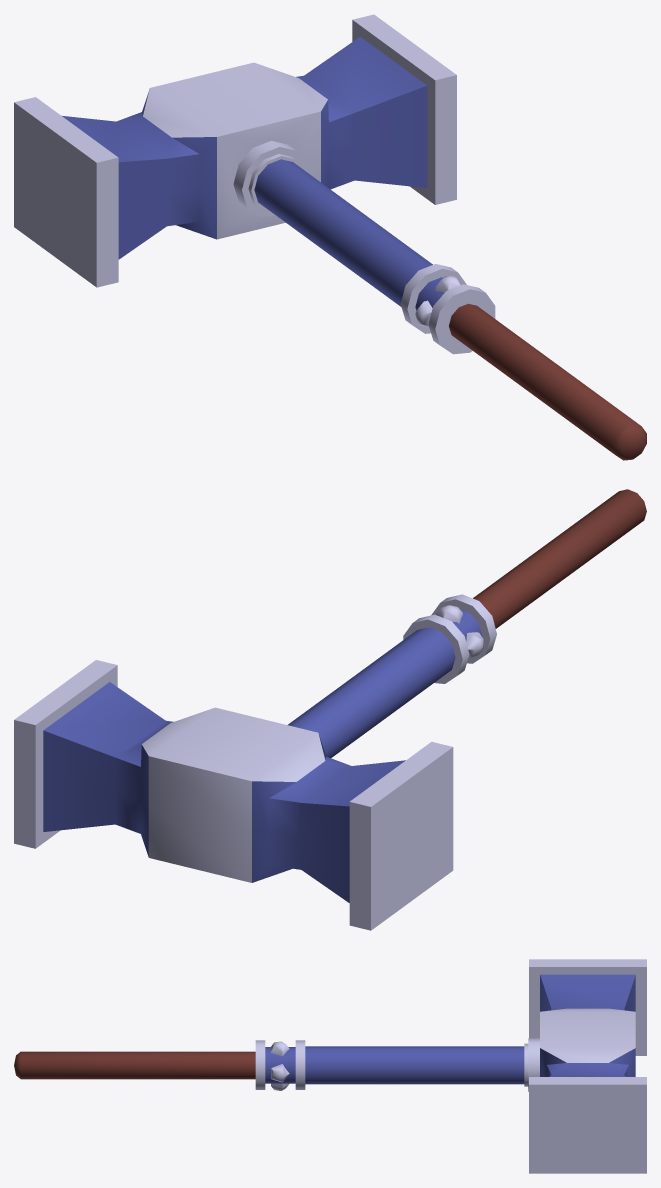
Rendered from Hammer.fbx.
3 renders of one model, top to bottom at view 1: azimuth 30°, elevation 25°; view 2: azimuth 150°, elevation 25°; view 3: azimuth 270°, elevation 25°, orthographic. The views are drawn at different scales.
Visible parts, largest first — view 1: hammer; view 2: hammer; view 3: hammer.
Boxes of the visible parts, bbox=[...] form: hammer: bbox=[14, 14, 646, 460]; hammer: bbox=[14, 489, 646, 930]; hammer: bbox=[14, 959, 646, 1173].
Bounding box in the file's own units: 100 × 33.24 × 214.
